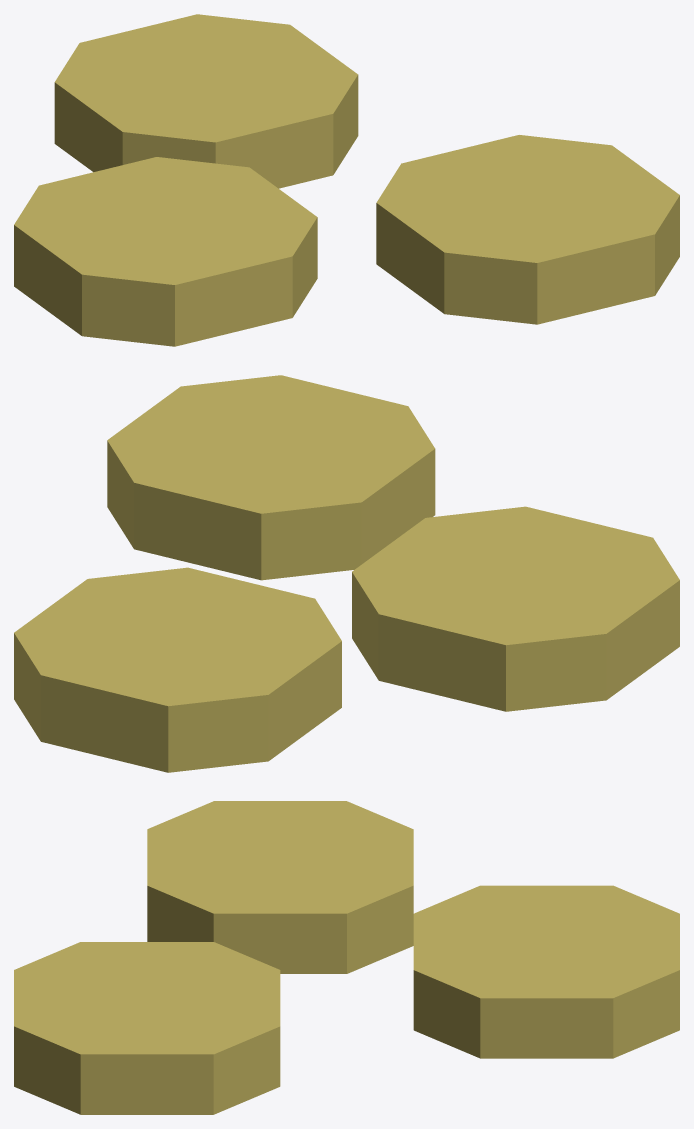
File: inv_odd_crunchies.obj
The picture shows the model from 3 angles, top to bottom: view 1: azimuth 30°, elevation 25°; view 2: azimuth 150°, elevation 25°; view 3: azimuth 270°, elevation 25°; orthographic projection. The views are drawn at different scales.
Size of the model in its own units: 0.2812 by 0.0312 by 0.3125.
